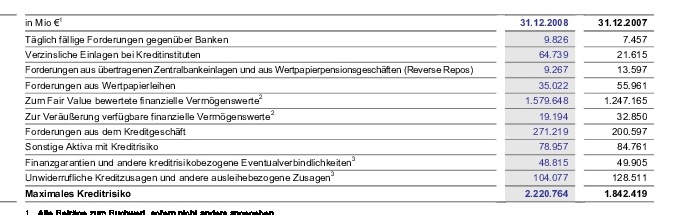table: (0, 0, 675, 215)
